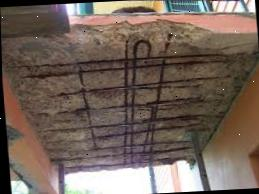exposed_rebar: (22, 61, 221, 78), (5, 53, 223, 68), (148, 34, 171, 165), (44, 114, 202, 132), (85, 76, 225, 90), (83, 125, 197, 140), (97, 95, 204, 110), (78, 65, 96, 154), (123, 41, 128, 167), (130, 61, 135, 166), (131, 40, 152, 60)
spalling: (1, 18, 259, 193)
